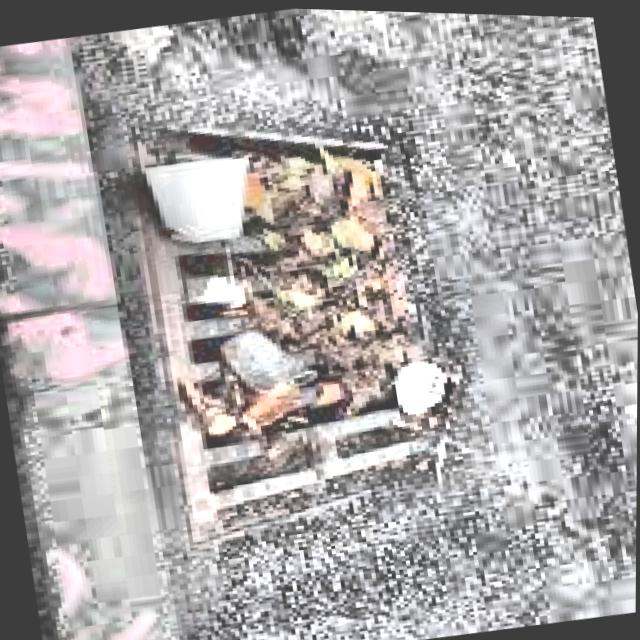clogged_drains: (145, 133, 458, 509)
